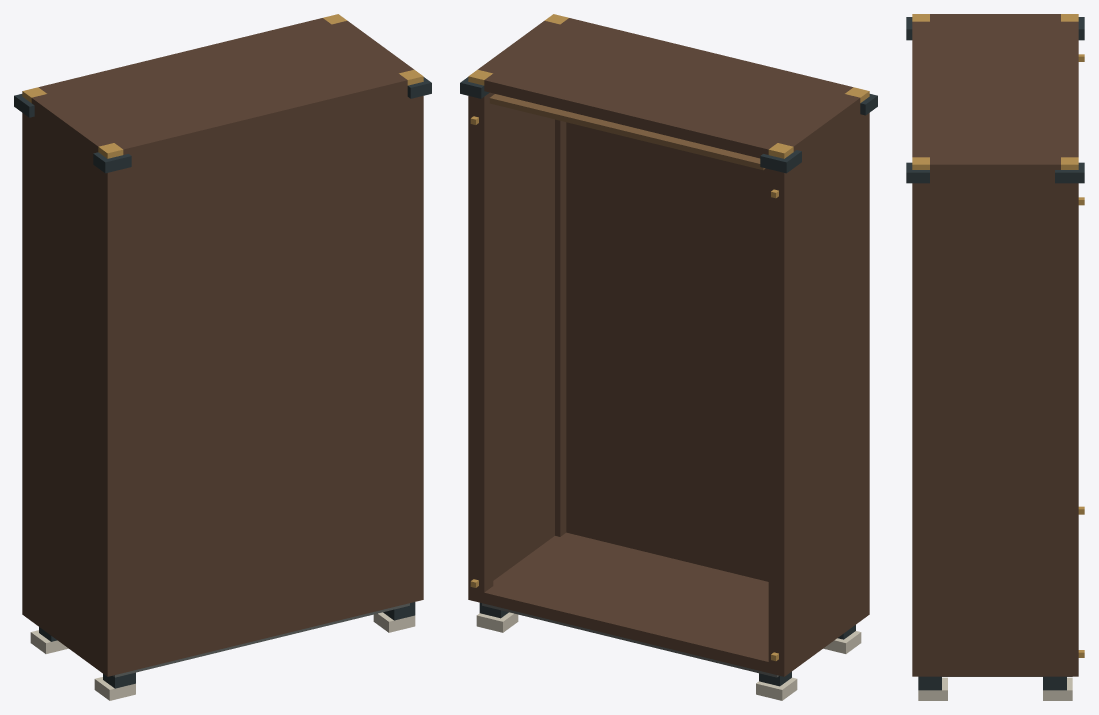
3 renders of one model, left to right at view 1: azimuth 30°, elevation 25°; view 2: azimuth 150°, elevation 25°; view 3: azimuth 270°, elevation 25°, orthographic. The views are drawn at different scales.
Parts seen in each view (by area): view 1: 衣柜框体; view 2: 衣柜框体; view 3: 衣柜框体.
Part boxes in pixels (x1,y1,x2,y2): 衣柜框体: (14, 14, 431, 700); 衣柜框体: (460, 14, 877, 700); 衣柜框体: (906, 14, 1084, 700).
Bounding box in the file's own units: 1.24 × 2 × 0.6.
Materials: 6 (6 with a texture image).
